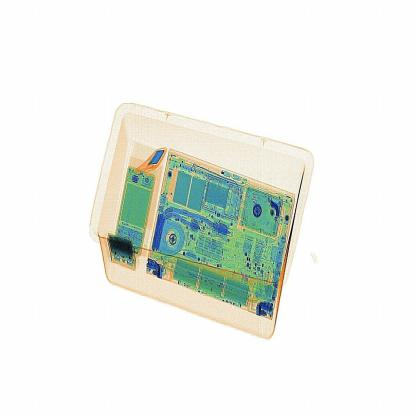scissors: (133, 145, 170, 176)
